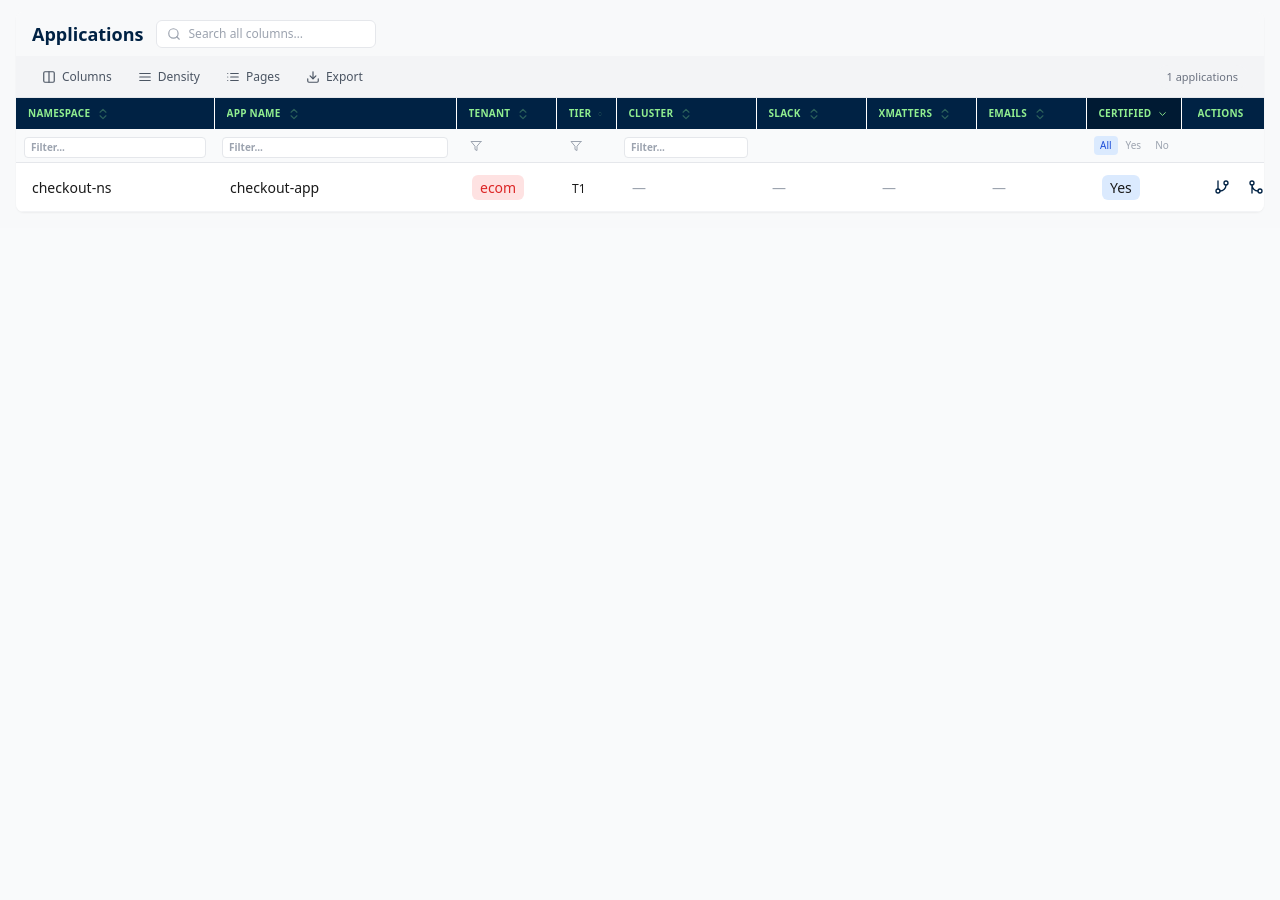
Test case: ApplicationsView sub-components › ConfirmModal (via delete dependency) › shows confirm modal with reason textarea when deleting dependency
This screenshot has width=1280, height=900.
Click the button titled "View downstream dependencies" at (1222,187), box 1208,173 -> 1236,201
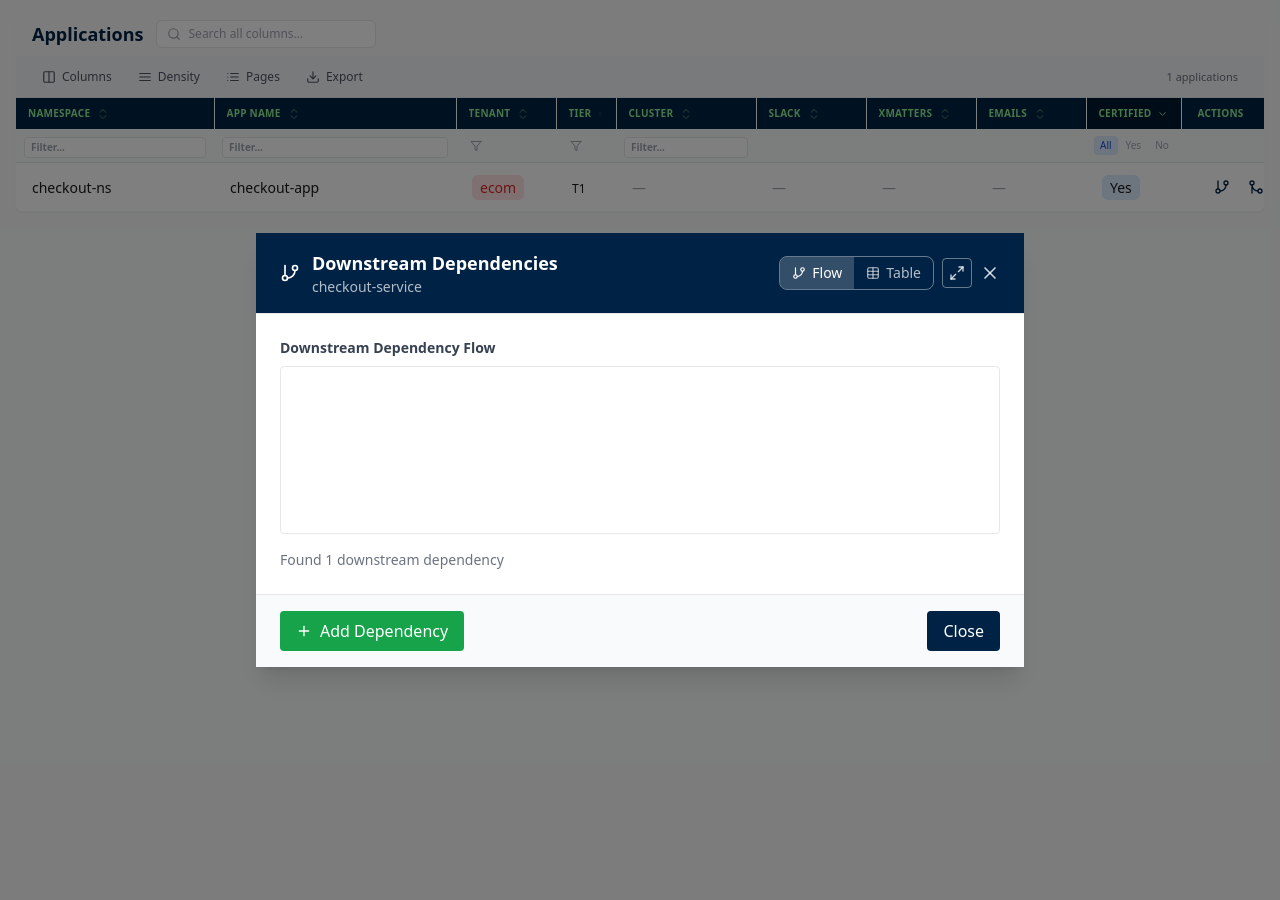
Check: the button titled "Table view" is shown
Click the button titled "Table view" at (894,273), box 854,257 -> 933,289
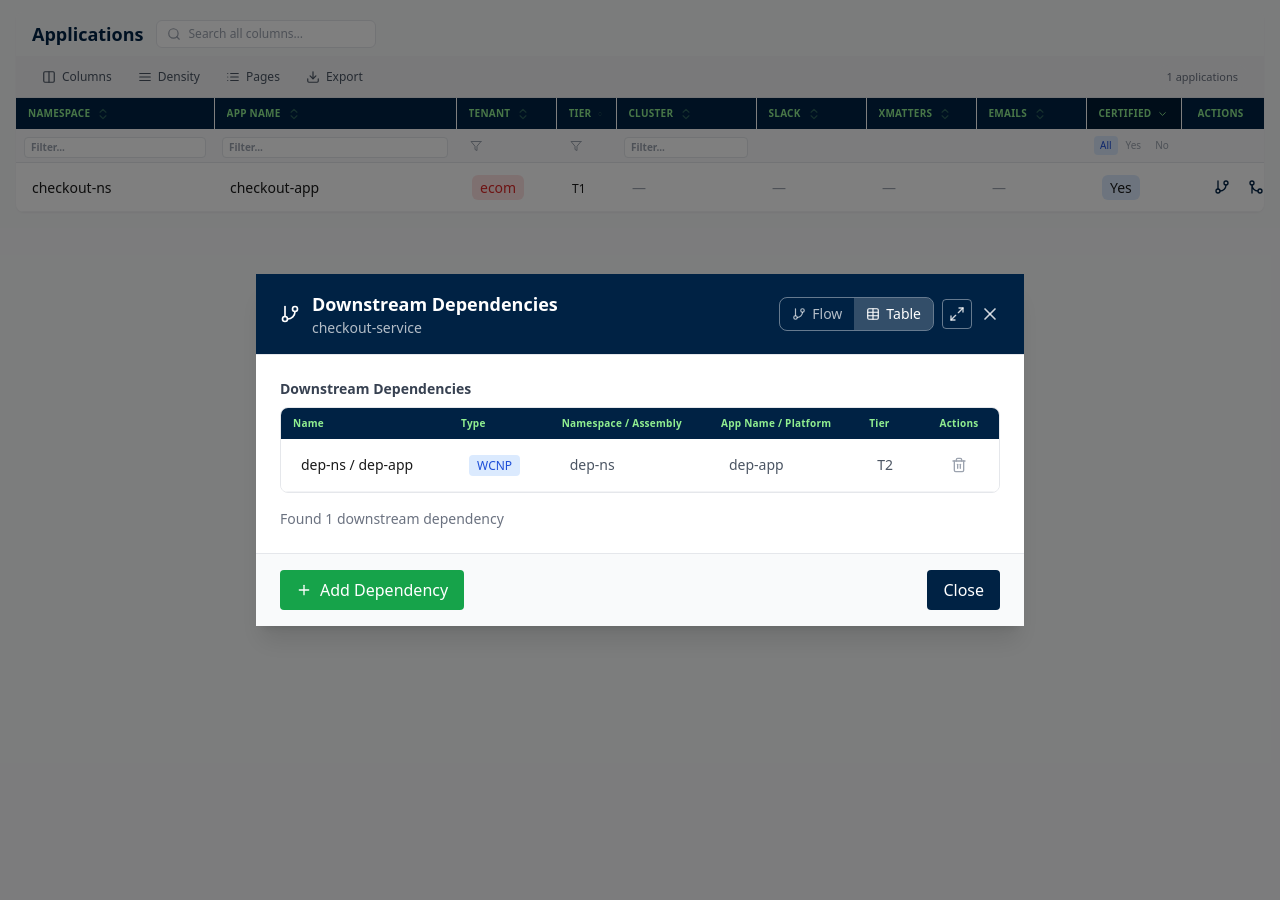
Check: the button titled "Delete dependency" is shown
Click the button titled "Delete dependency" at (959,465), box 945,451 -> 973,479
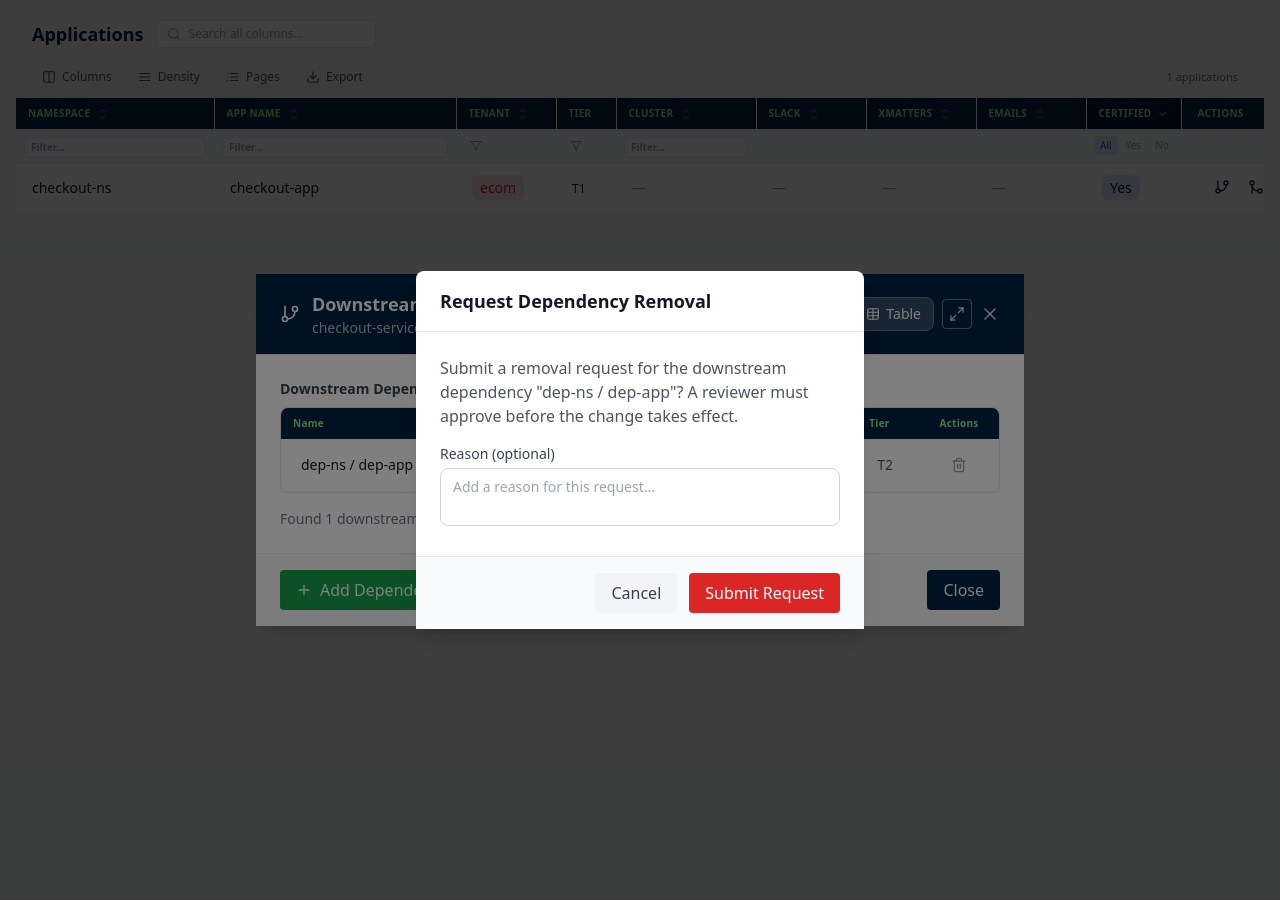
Check: the heading "Request Dependency Removal" is shown, box 440,289 -> 711,313
Check: the text "Reason (optional)" is shown, box 440,444 -> 555,463
Check: the text box with placeholder "Add a reason for this request..." is shown, box 440,468 -> 840,526
